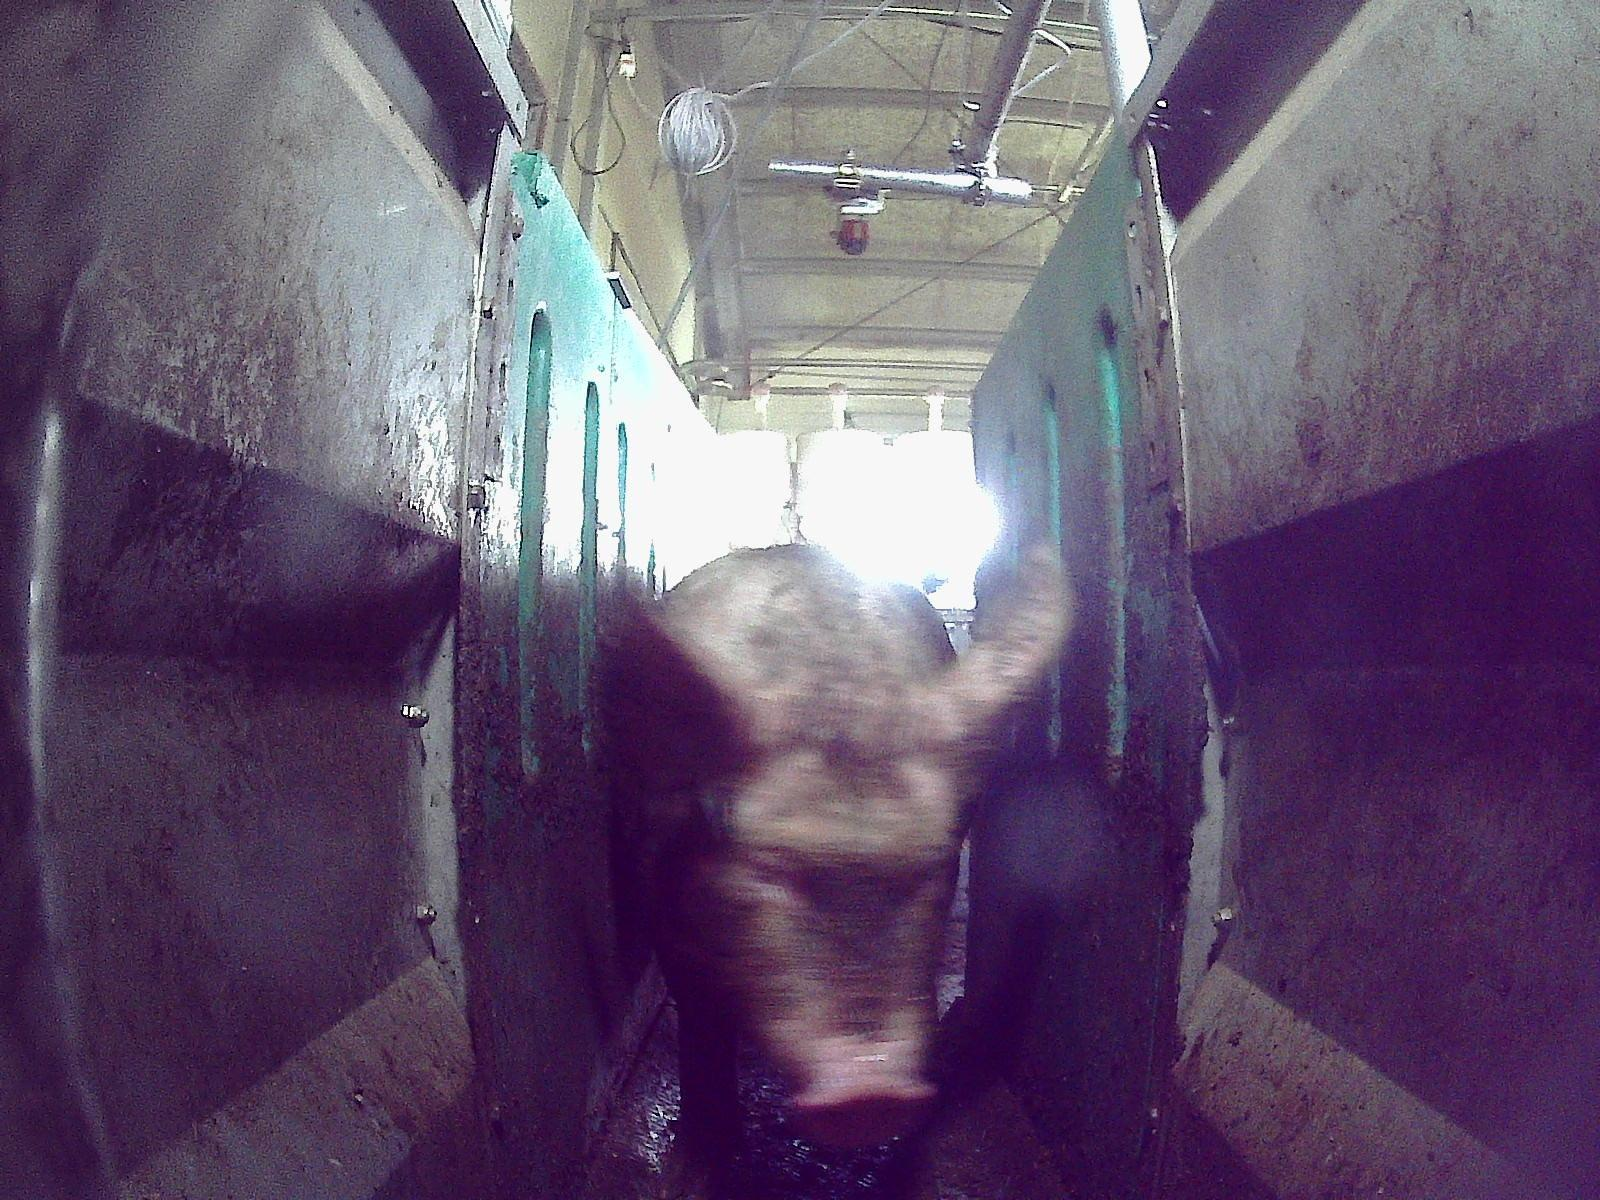Face: (665, 650, 965, 1154)
